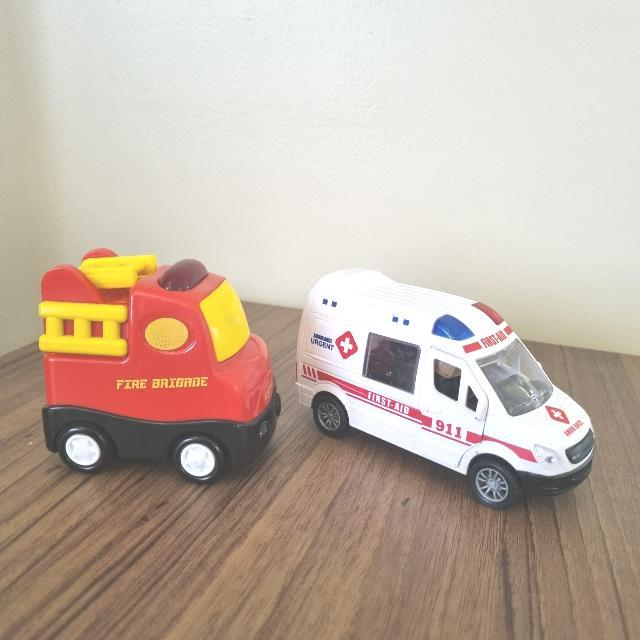emergency-vehicle: (297, 268, 595, 510)
